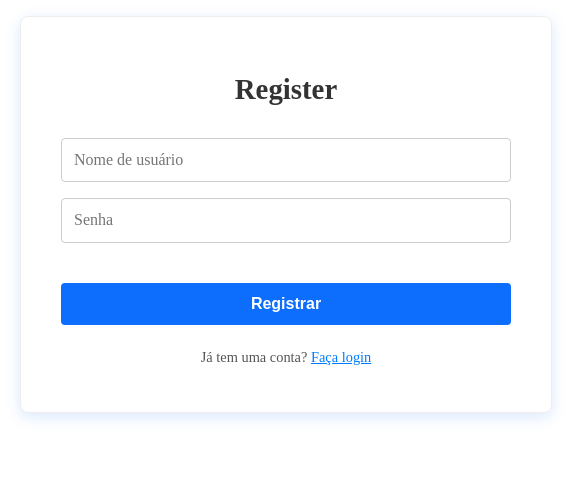
Página Register › deve exibir mensagem de erro genérica se a API falhar (ex: erro de rede)
Type "anyuser" into the field with placeholder "Nome de usuário" at (286, 160), box x1=61 y1=138 x2=511 y2=182
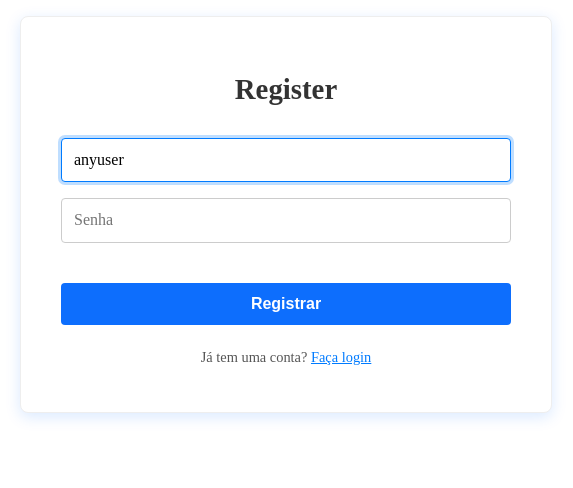
Type "anypassword" into the password field with placeholder "Senha" at (286, 220), box x1=61 y1=198 x2=511 y2=243
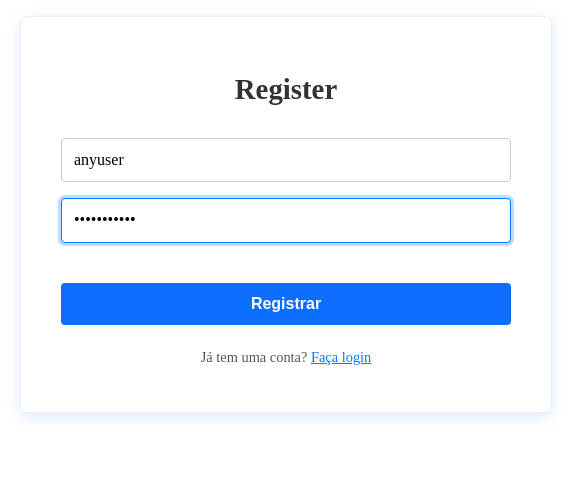
Click the button "Registrar" at (286, 304), box x1=61 y1=283 x2=511 y2=325
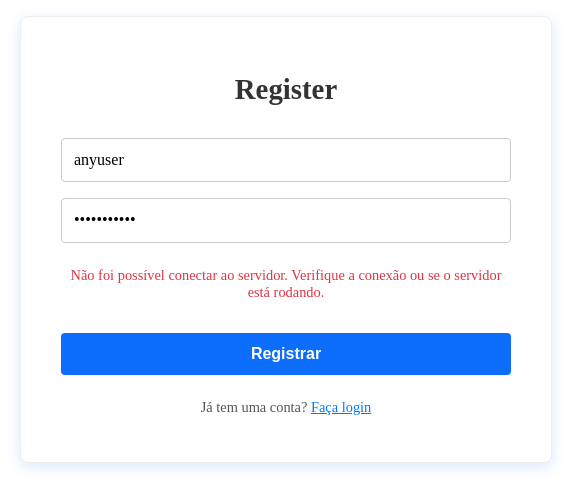
Check: the text "Não foi possível conectar ao servidor" is shown, box x1=70 y1=267 x2=501 y2=300
